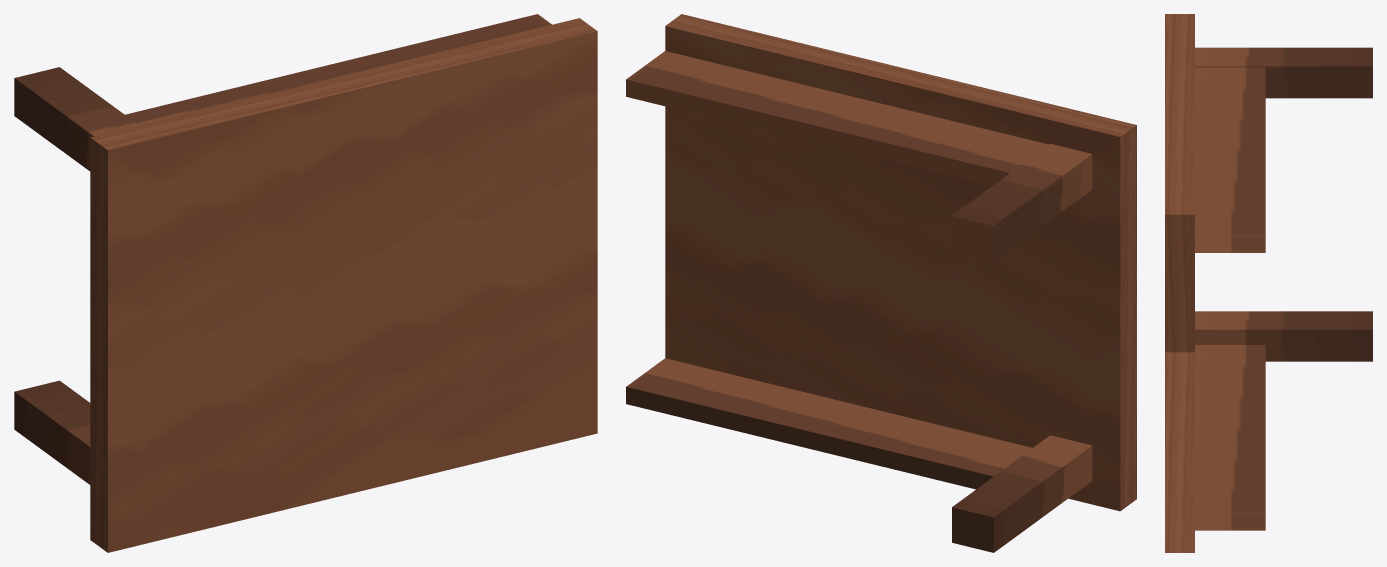
File: pz_table_tables_low_01_long_0_0.obj
3 renders of one model, left to right at view 1: azimuth 30°, elevation 25°; view 2: azimuth 150°, elevation 25°; view 3: azimuth 270°, elevation 25°, orthographic. The views are drawn at different scales.
Size of the model in its own units: 0.875 by 0.6875 by 0.3827.
1 material, 1 textured.
